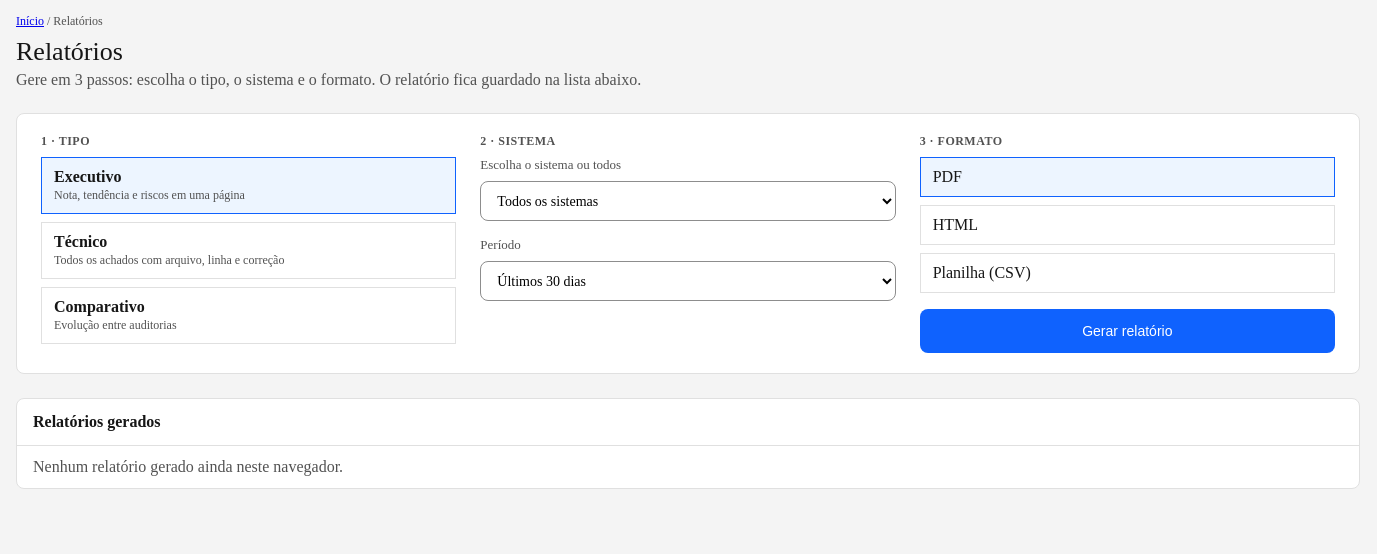
ReportsPage › sem sistema escolhido não oferece SBOM e, sem auditoria concluída, bloqueia o botão
The image size is (1377, 554).
Click the button "Técnico Todos os achados com arquivo, linha e correção": [249, 250] box top-left (41, 222), bottom-right (456, 279)
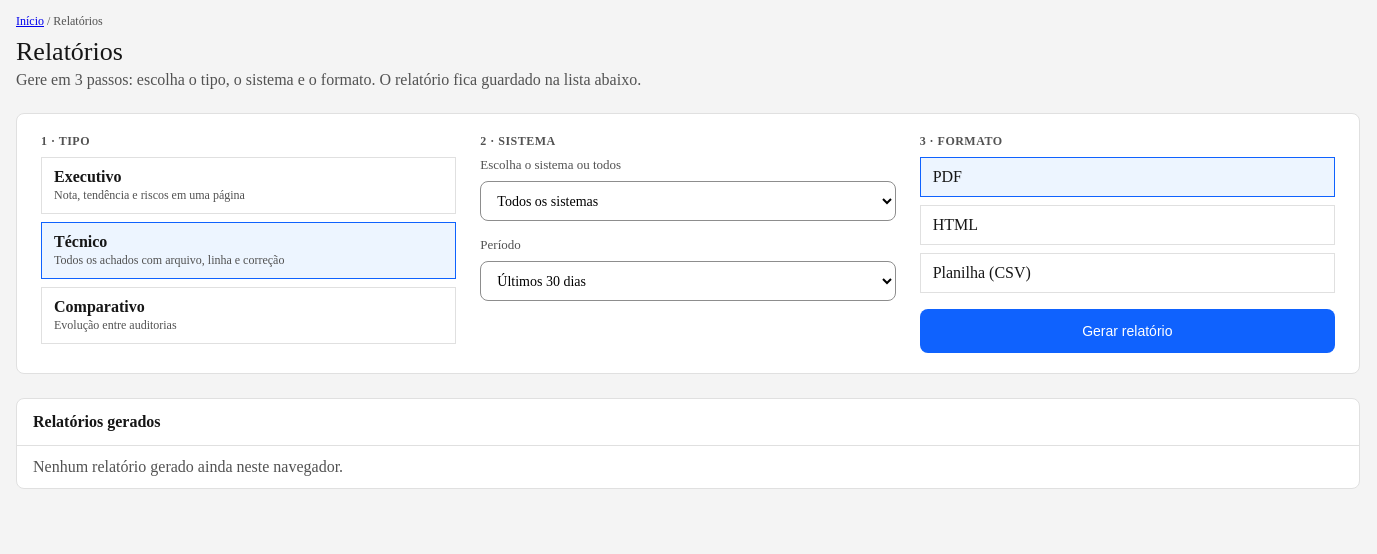
Expected: the button "SBOM (CycloneDX)" is not shown
Select "novo" in the dropdown labelled "Escolha o sistema ou todos": [688, 201] box top-left (480, 181), bottom-right (896, 221)
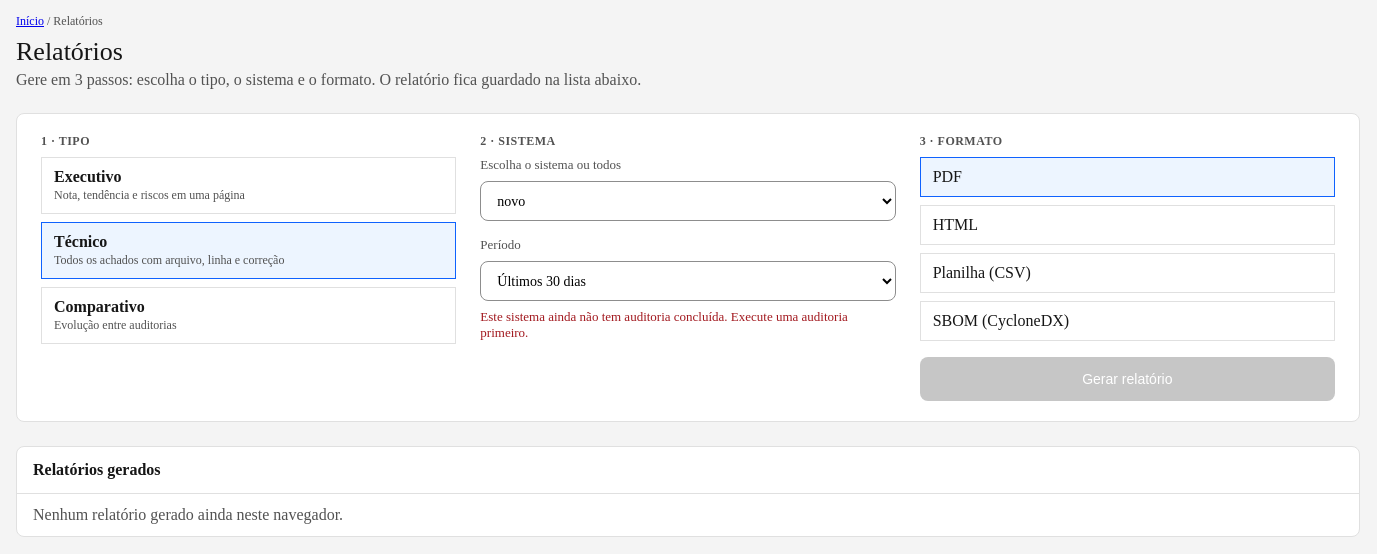
Result: the text "ainda não tem auditoria concluída" is shown at top-left (480, 309), bottom-right (848, 340)
Result: the button "Gerar relatório" is disabled at top-left (920, 357), bottom-right (1335, 401)
